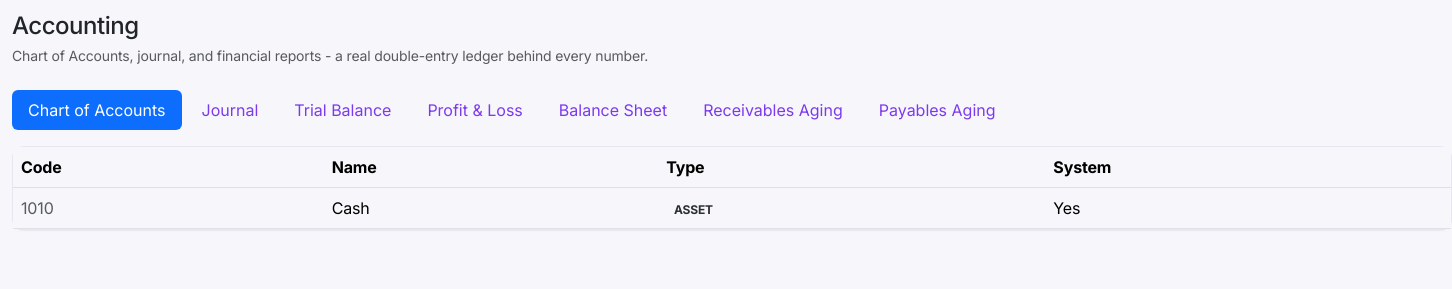
switching tabs after the Chart of Accounts has loaded (the real user sequence) › Trial Balance: no render exception, and it shows its own content once its response arrives
Expected: the text "Cash" is shown, [324,187,658,228]
What coordinates should you click on to do the following:
click the button "Trial Balance"
I would click on:
 (343, 110)
Its box is [278,90,407,130].
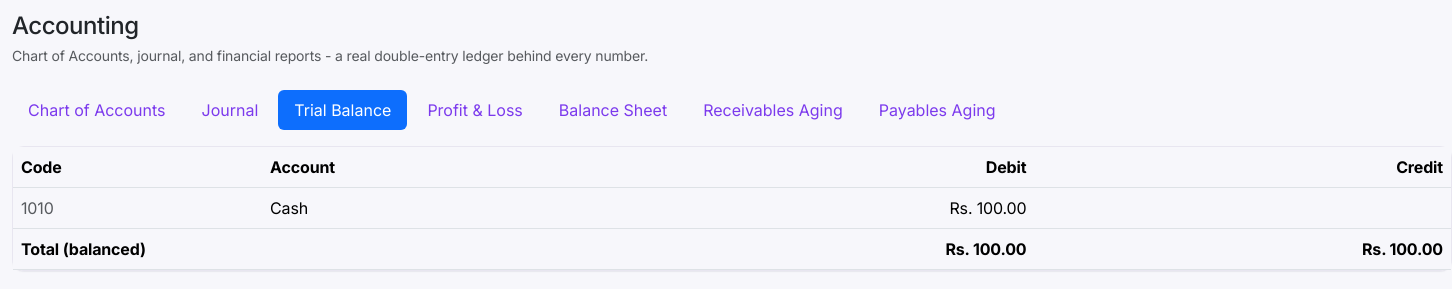
Expected: the text "Total (balanced)" is shown, [13,228,618,269]
